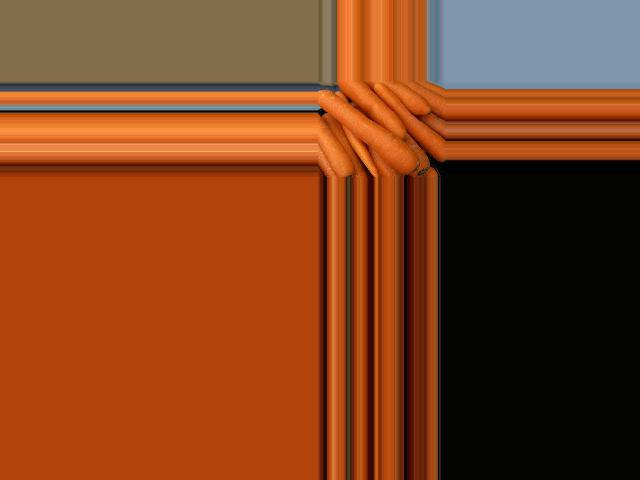carrot: (376, 85, 446, 153)
